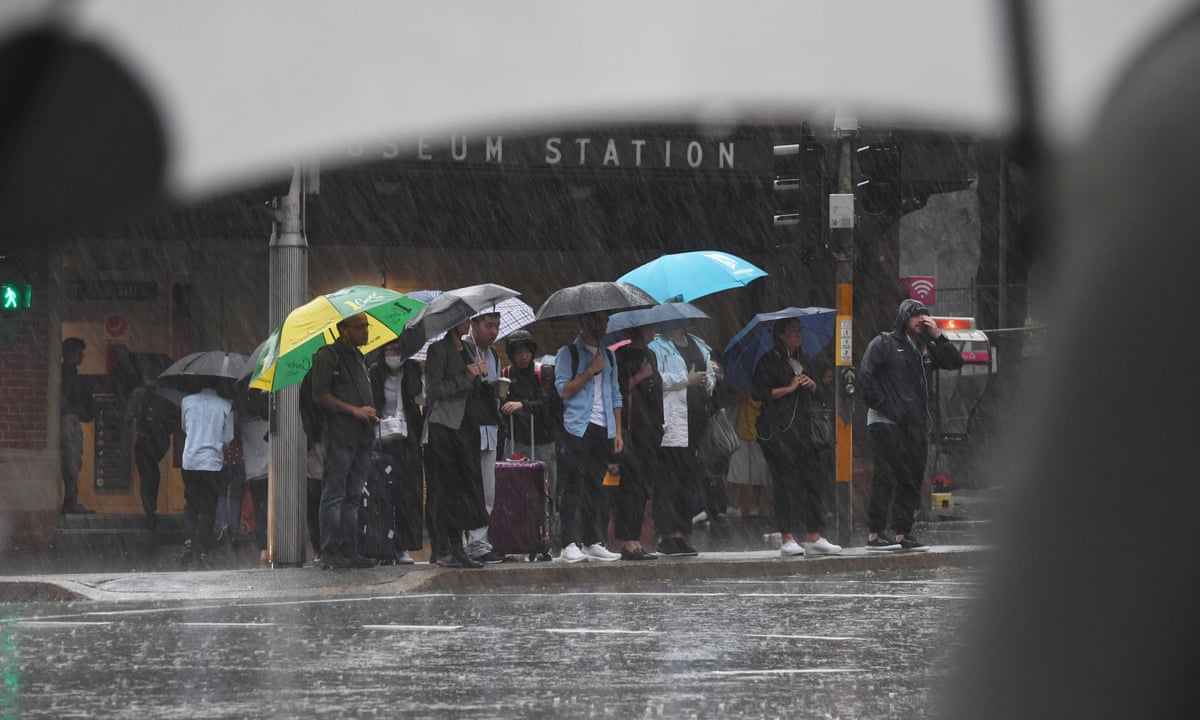person: (859, 298, 947, 554), (554, 309, 625, 566), (310, 311, 378, 569), (758, 316, 829, 558), (495, 329, 556, 454)
